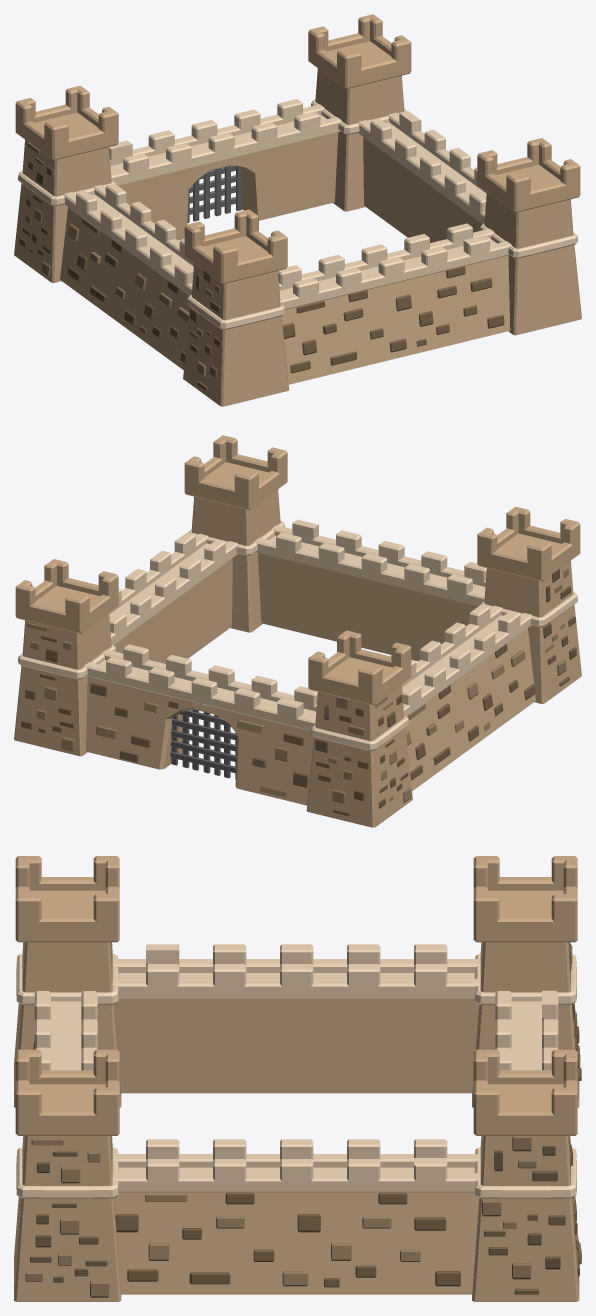
The model's file is wall.fbx.
3 renders of one model, top to bottom at view 1: azimuth 30°, elevation 25°; view 2: azimuth 150°, elevation 25°; view 3: azimuth 270°, elevation 25°, orthographic. The views are drawn at different scales.
Visible parts, largest first — view 1: Cube.004; view 2: Cube.004; view 3: Cube.004.
Part boxes in pixels (bbox=[...]): Cube.004: bbox=[14, 14, 581, 406]; Cube.004: bbox=[14, 435, 581, 827]; Cube.004: bbox=[14, 856, 581, 1301].
Size of the model in its own units: 3917 by 1580 by 3898.
